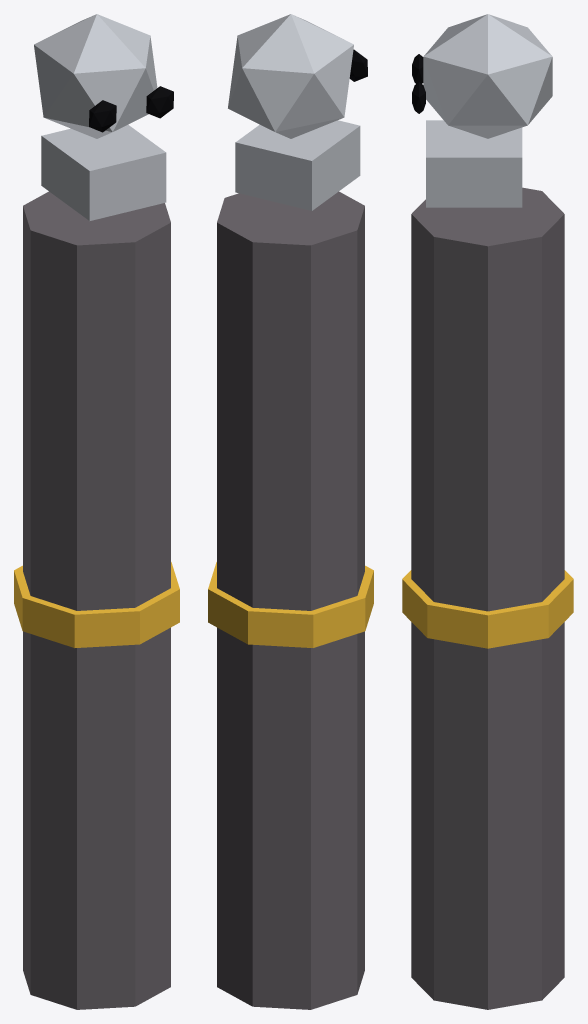
File: Prop_OR_SkullTotem_05.glb
3 views of the same model, side by side, from view 1: azimuth 30°, elevation 25°; view 2: azimuth 150°, elevation 25°; view 3: azimuth 270°, elevation 25° (orthographic).
Parts seen in each view (by area): view 1: Prop_OR_SkullTotem_05; view 2: Prop_OR_SkullTotem_05; view 3: Prop_OR_SkullTotem_05.
Part boxes in pixels (box(x1,y1,x2,y2)): Prop_OR_SkullTotem_05: box(14, 14, 179, 1009); Prop_OR_SkullTotem_05: box(208, 14, 373, 1009); Prop_OR_SkullTotem_05: box(402, 14, 573, 1009).
Bounding box in the file's own units: 0.56 × 3.47 × 0.56.
